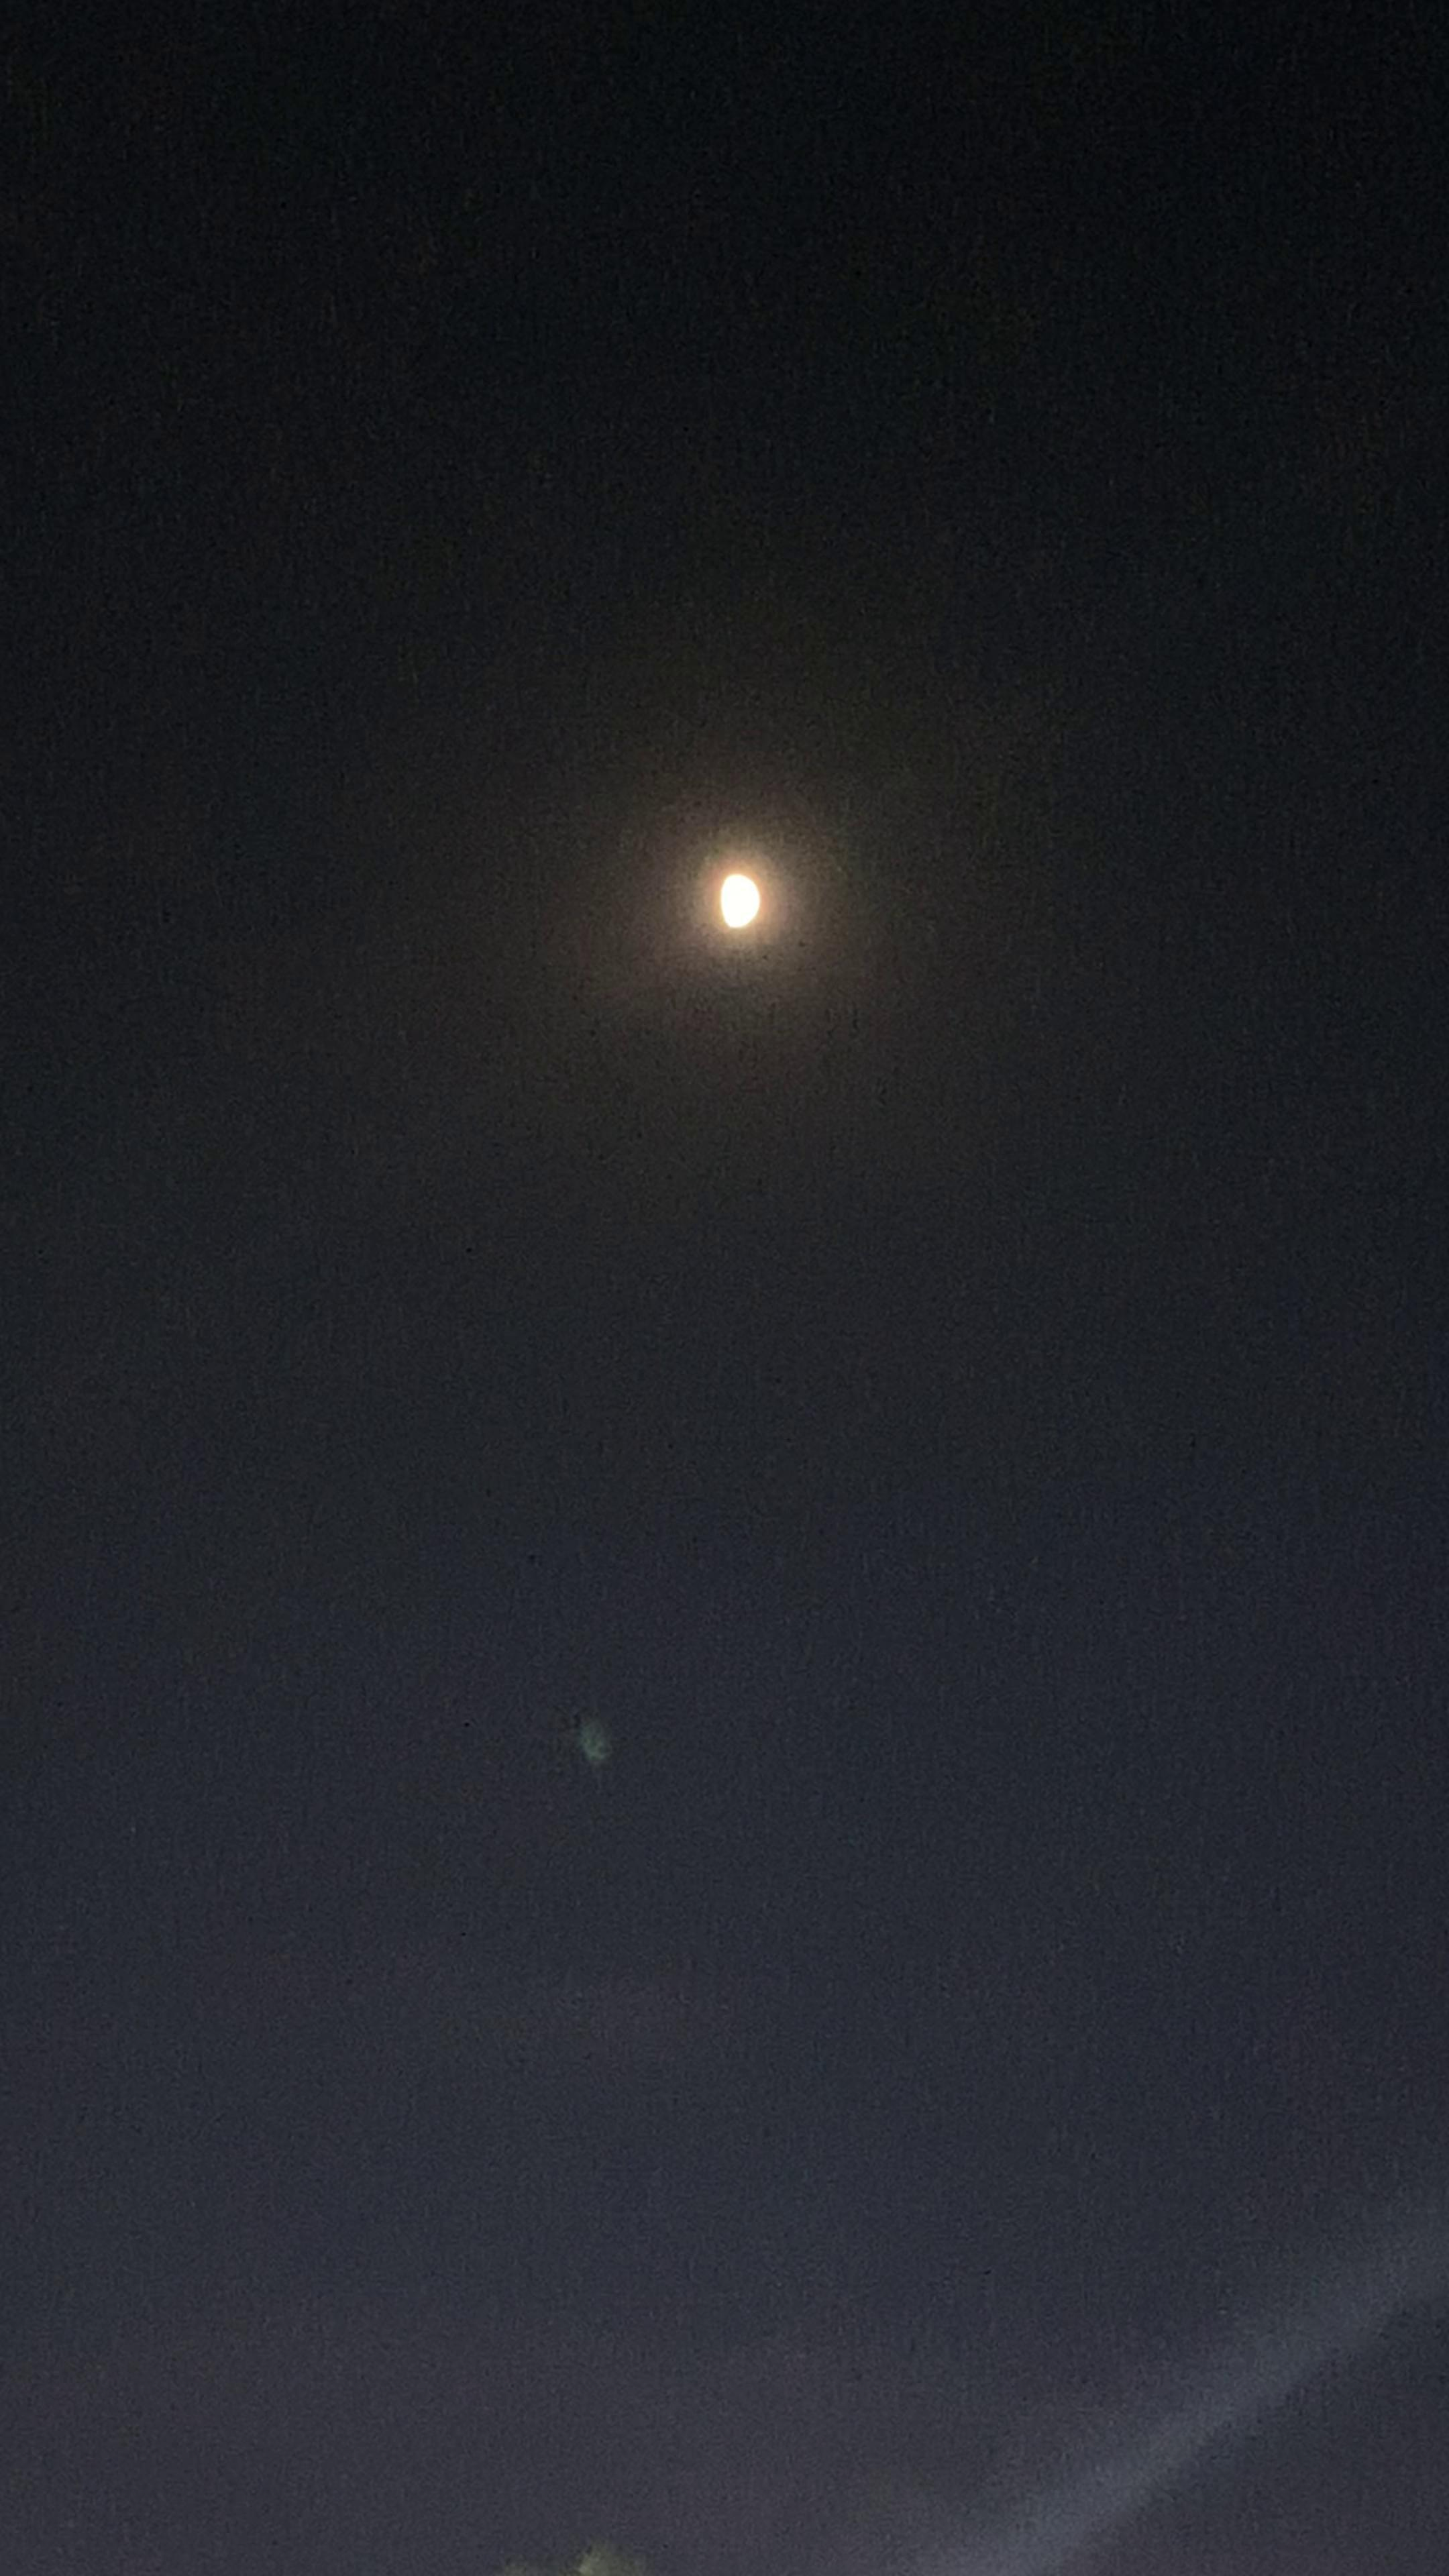moon: (697, 837, 796, 954)
